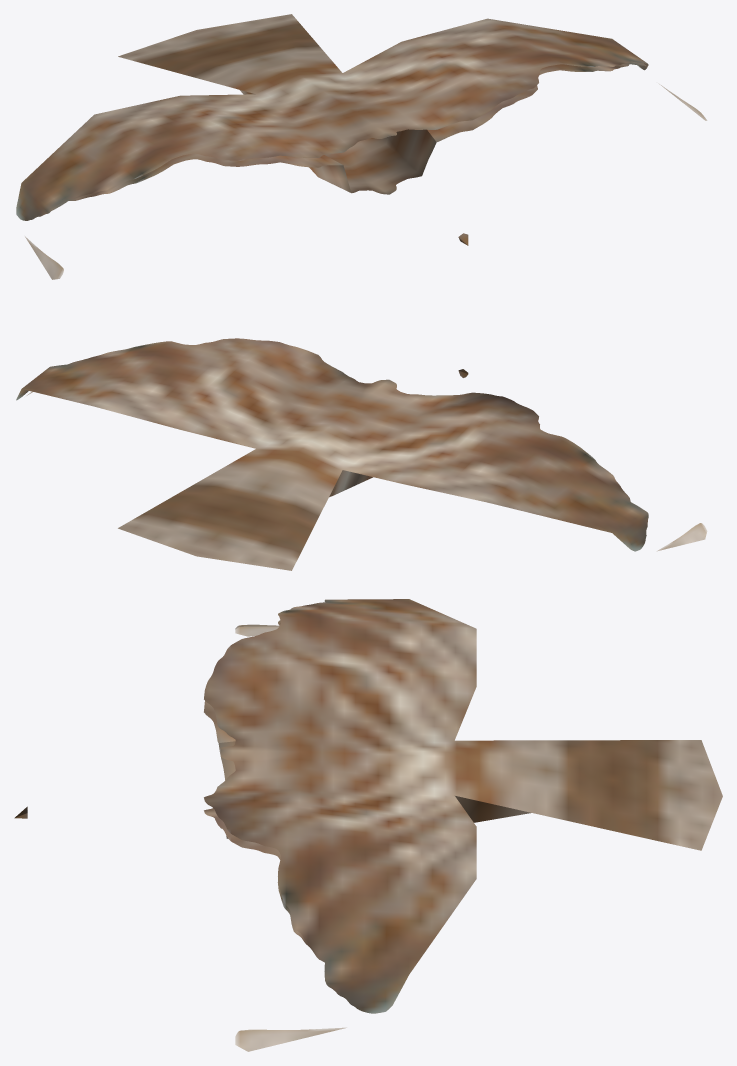
File: hawk.glb
3 renders of one model, top to bottom at view 1: azimuth 30°, elevation 25°; view 2: azimuth 150°, elevation 25°; view 3: azimuth 270°, elevation 25°, orthographic. The views are drawn at different scales.
Visible parts, largest first — view 1: hawk; view 2: hawk; view 3: hawk.
Part boxes in pixels (x1=…): hawk: x1=16, y1=14, x2=707, y2=279; hawk: x1=16, y1=338, x2=707, y2=570; hawk: x1=14, y1=599, x2=722, y2=1051.
Bounding box in the file's own units: 1.03 × 0.1245 × 0.7434.
Materials: 1 (1 with a texture image).
